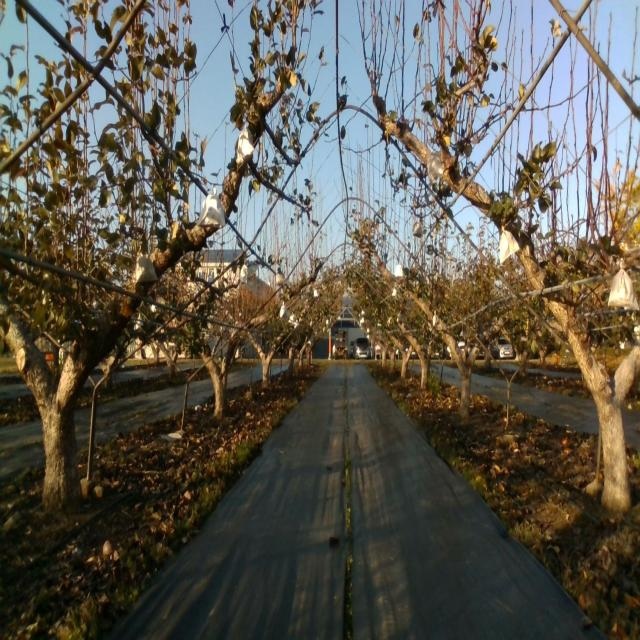pearbags: (608, 264, 639, 312), (198, 184, 225, 228), (134, 249, 158, 286), (499, 226, 520, 264), (237, 127, 254, 165), (427, 151, 441, 184)
